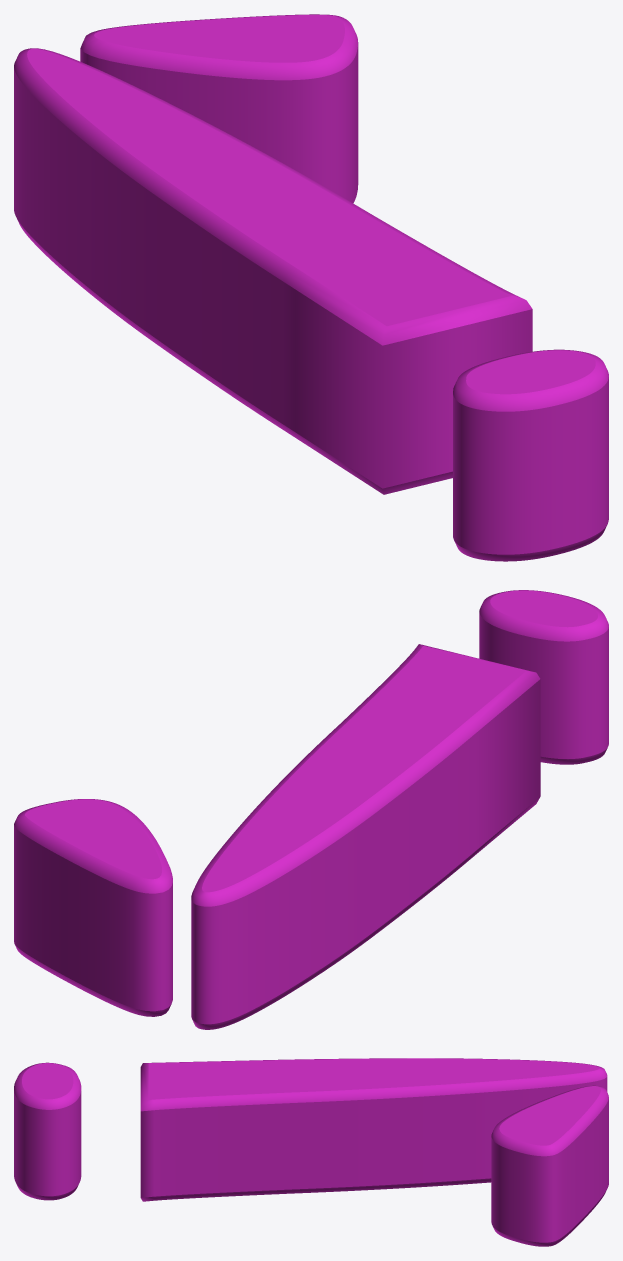
File: Letter_j_Small.fbx
The picture shows the model from 3 angles, top to bottom: view 1: azimuth 30°, elevation 25°; view 2: azimuth 150°, elevation 25°; view 3: azimuth 270°, elevation 25°; orthographic projection. The views are drawn at different scales.
Parts seen in each view (by area): view 1: Letter_j; view 2: Letter_j; view 3: Letter_j.
Part boxes in pixels (<box>): Letter_j: <box>14,14,608,561</box>; Letter_j: <box>14,590,608,1029</box>; Letter_j: <box>14,1058,608,1246</box>.
Size of the model in its own units: 0.2797 by 0.14 by 0.7487.
